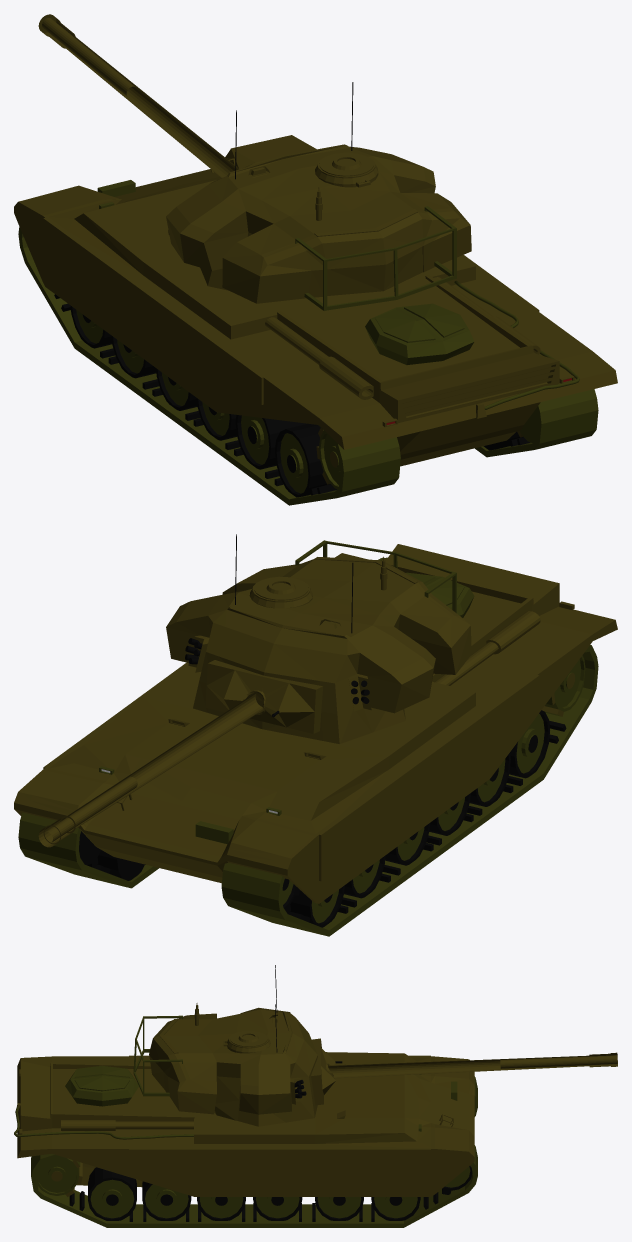
The model's file is Tank.dae.
The picture shows the model from 3 angles, top to bottom: view 1: azimuth 30°, elevation 25°; view 2: azimuth 150°, elevation 25°; view 3: azimuth 270°, elevation 25°; orthographic projection. The views are drawn at different scales.
Parts seen in each view (by area): view 1: body, turret, track, rear_parts1, barrel, wheels1, exhaust, cage, wheels2, hatch, wheels_engine, wheels3 (+4 smaller); view 2: body, turret, track, turret_front, barrel, wheels6, wheels1, exhaust, hatch, wheels_engine, cage, rear_parts1 (+7 smaller); view 3: body, turret, track, barrel, rear_parts1, wheels1, wheels_engine, wheels2, exhaust, turret_front, wheels6, wheels4 (+6 smaller).
Part boxes in pixels (x1,y1,x2,y2): body: [14, 135, 617, 466]; turret: [166, 144, 471, 303]; track: [18, 227, 598, 505]; rear_parts1: [365, 303, 474, 364]; barrel: [38, 14, 239, 177]; wheels1: [275, 423, 522, 497]; exhaust: [265, 277, 540, 399]; cage: [295, 206, 456, 310]; wheels2: [235, 415, 306, 469]; hatch: [315, 152, 378, 187]; wheels_engine: [316, 409, 537, 489]; wheels3: [196, 398, 236, 440]; body: [14, 544, 617, 903]; turret: [166, 557, 471, 743]; track: [18, 645, 598, 936]; turret_front: [205, 660, 323, 733]; barrel: [38, 692, 263, 847]; wheels6: [97, 850, 344, 927]; wheels1: [509, 710, 549, 778]; exhaust: [434, 611, 540, 685]; hatch: [249, 576, 312, 608]; wheels_engine: [542, 655, 585, 716]; cage: [295, 540, 456, 613]; rear_parts1: [406, 572, 474, 617]; body: [16, 1052, 474, 1196]; turret: [149, 1007, 317, 1126]; track: [31, 1076, 477, 1227]; barrel: [328, 1052, 617, 1078]; rear_parts1: [65, 1065, 138, 1106]; wheels1: [88, 1167, 136, 1220]; wheels_engine: [36, 1157, 82, 1196]; wheels2: [142, 1181, 191, 1220]; exhaust: [61, 1120, 193, 1130]; turret_front: [311, 1038, 335, 1105]; wheels6: [371, 1197, 420, 1220]; wheels4: [253, 1197, 302, 1220].
Bounding box in the file's own units: 1.77 × 4.83 × 1.76.
